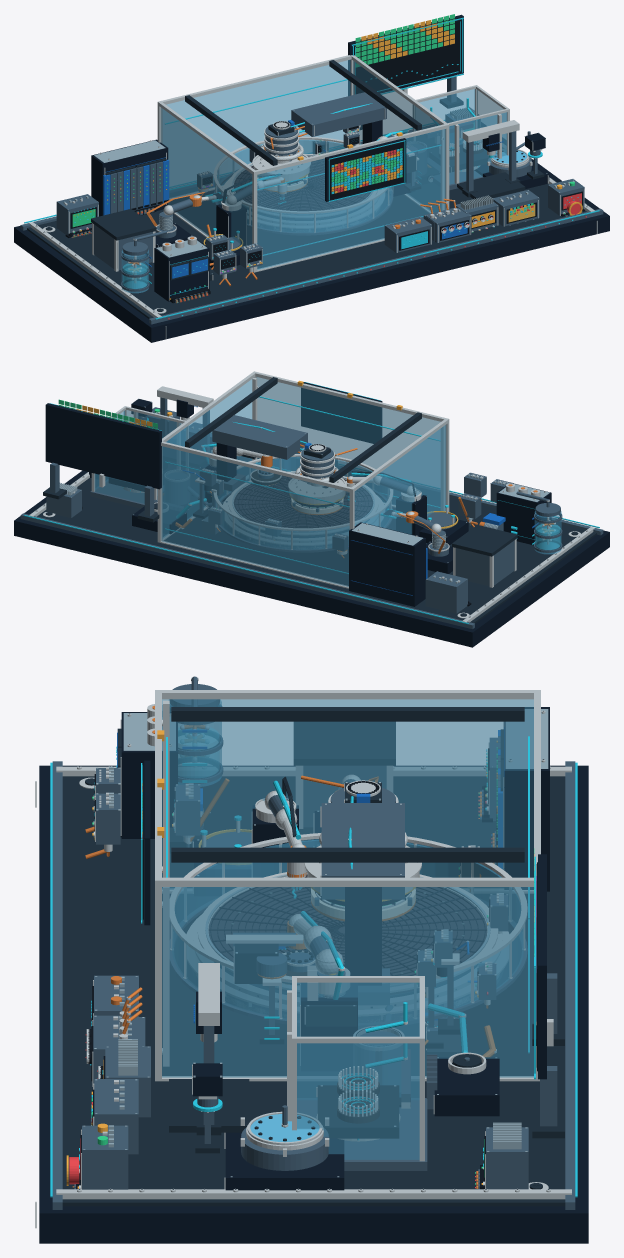
The model's file is Level73_Complete_ArtKit_Showcase.fbx.
3 views of the same model, one above another, from view 1: azimuth 30°, elevation 25°; view 2: azimuth 150°, elevation 25°; view 3: azimuth 270°, elevation 25° (orthographic). The views are drawn at different scales.
Parts seen in each view (by area): view 1: Level73_Complete_ArtKit_Showcase, Level73_Complete_ArtKit_Showcase_Part_3938, Level73_Complete_ArtKit_Showcase_Part_1075, Level73_Complete_ArtKit_Showcase_Part_0383, Level73_Complete_ArtKit_Showcase_Part_3882, Level73_Complete_ArtKit_Showcase_Part_1074, Level73_Complete_ArtKit_Showcase_Part_0562, Level73_Complete_ArtKit_Showcase_Part_0557; view 2: Level73_Complete_ArtKit_Showcase, Level73_Complete_ArtKit_Showcase_Part_3882, Level73_Complete_ArtKit_Showcase_Part_1074, Level73_Complete_ArtKit_Showcase_Part_0383, Level73_Complete_ArtKit_Showcase_Part_0562, Level73_Complete_ArtKit_Showcase_Part_0557, Level73_Complete_ArtKit_Showcase_Part_0384, Level73_Complete_ArtKit_Showcase_Part_0221; view 3: Level73_Complete_ArtKit_Showcase, Level73_Complete_ArtKit_Showcase_Part_0383, Level73_Complete_ArtKit_Showcase_Part_3882, Level73_Complete_ArtKit_Showcase_Part_0221, Level73_Complete_ArtKit_Showcase_Part_0384, Level73_Complete_ArtKit_Showcase_Part_2882, Level73_Complete_ArtKit_Showcase_Part_1074, Level73_Complete_ArtKit_Showcase_Part_0223, Level73_Complete_ArtKit_Showcase_Part_3290.
Part boxes in pixels (bbox=[...]): Level73_Complete_ArtKit_Showcase: bbox=[14, 55, 609, 342]; Level73_Complete_ArtKit_Showcase_Part_3938: bbox=[354, 20, 460, 93]; Level73_Complete_ArtKit_Showcase_Part_1075: bbox=[329, 141, 404, 199]; Level73_Complete_ArtKit_Showcase_Part_0383: bbox=[234, 159, 370, 218]; Level73_Complete_ArtKit_Showcase_Part_3882: bbox=[348, 14, 463, 95]; Level73_Complete_ArtKit_Showcase_Part_1074: bbox=[325, 138, 406, 201]; Level73_Complete_ArtKit_Showcase_Part_0562: bbox=[253, 153, 309, 181]; Level73_Complete_ArtKit_Showcase_Part_0557: bbox=[265, 126, 297, 155]; Level73_Complete_ArtKit_Showcase: bbox=[14, 371, 609, 647]; Level73_Complete_ArtKit_Showcase_Part_3882: bbox=[45, 403, 161, 489]; Level73_Complete_ArtKit_Showcase_Part_1074: bbox=[301, 382, 382, 443]; Level73_Complete_ArtKit_Showcase_Part_0383: bbox=[234, 476, 372, 535]; Level73_Complete_ArtKit_Showcase_Part_0562: bbox=[289, 476, 345, 503]; Level73_Complete_ArtKit_Showcase_Part_0557: bbox=[301, 449, 333, 478]; Level73_Complete_ArtKit_Showcase_Part_0384: bbox=[228, 471, 378, 534]; Level73_Complete_ArtKit_Showcase_Part_0221: bbox=[223, 495, 384, 545]; Level73_Complete_ArtKit_Showcase: bbox=[35, 676, 588, 1243]; Level73_Complete_ArtKit_Showcase_Part_0383: bbox=[208, 876, 486, 994]; Level73_Complete_ArtKit_Showcase_Part_3882: bbox=[538, 854, 546, 1079]; Level73_Complete_ArtKit_Showcase_Part_0221: bbox=[186, 914, 509, 1015]; Level73_Complete_ArtKit_Showcase_Part_0384: bbox=[198, 872, 497, 992]; Level73_Complete_ArtKit_Showcase_Part_2882: bbox=[250, 1114, 319, 1142]; Level73_Complete_ArtKit_Showcase_Part_1074: bbox=[144, 760, 150, 925]; Level73_Complete_ArtKit_Showcase_Part_0223: bbox=[193, 925, 502, 1006]; Level73_Complete_ArtKit_Showcase_Part_3290: bbox=[193, 1063, 222, 1096].
Bounding box in the file's own units: 1715 × 501 × 897.
